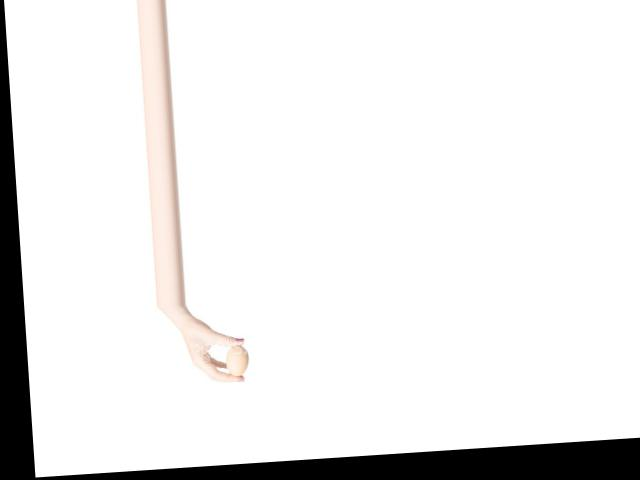egg: (225, 344, 248, 376)
